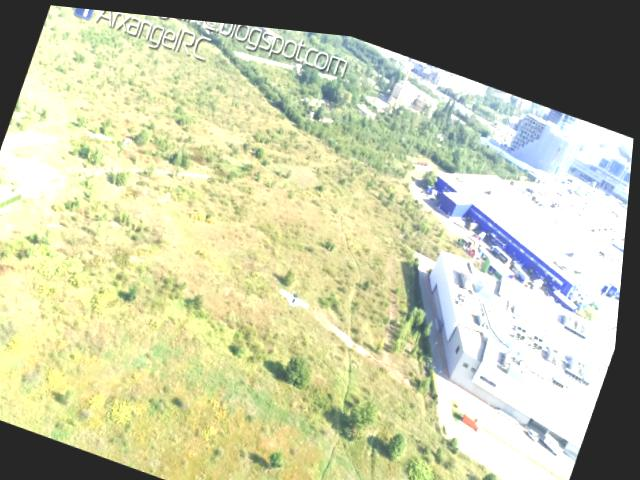plane: (280, 279, 315, 309)
